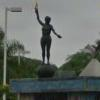Statue: (31, 2, 67, 70)
